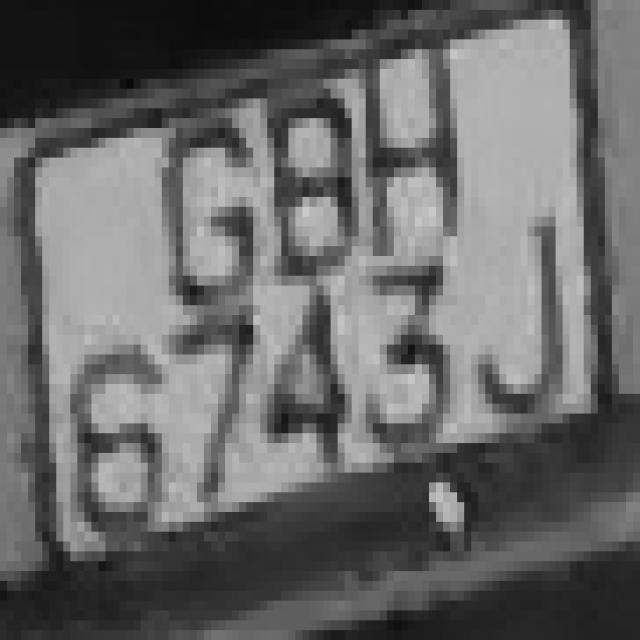3: (331, 226, 457, 453)
4: (239, 286, 366, 492)
6: (70, 306, 155, 552)
7: (155, 295, 253, 532)
B: (246, 49, 366, 305)
G: (155, 88, 260, 344)
H: (338, 39, 471, 256)
J: (443, 207, 577, 433)
